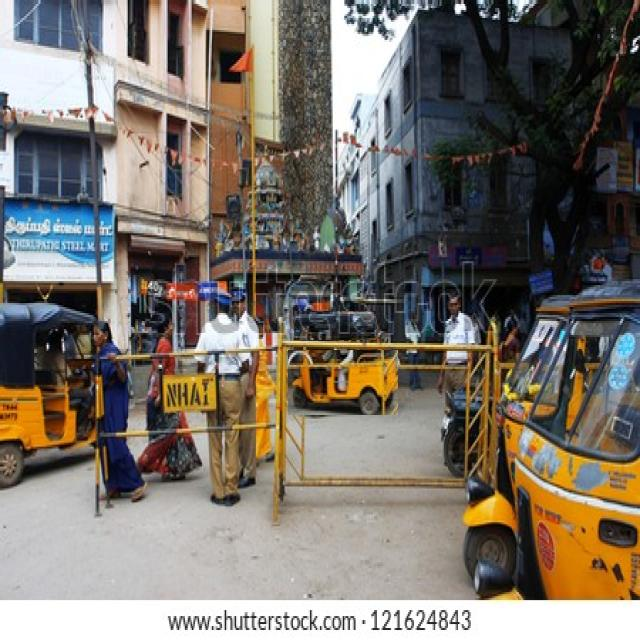autorickshaw: (515, 282, 640, 598), (464, 294, 574, 574), (0, 303, 95, 486), (289, 351, 398, 415), (294, 312, 376, 340)
